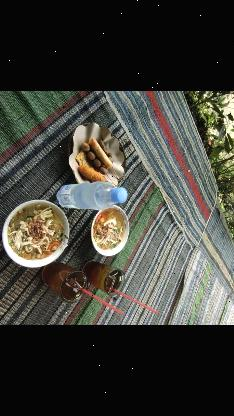Plastic Bottle: (54, 180, 128, 210)
